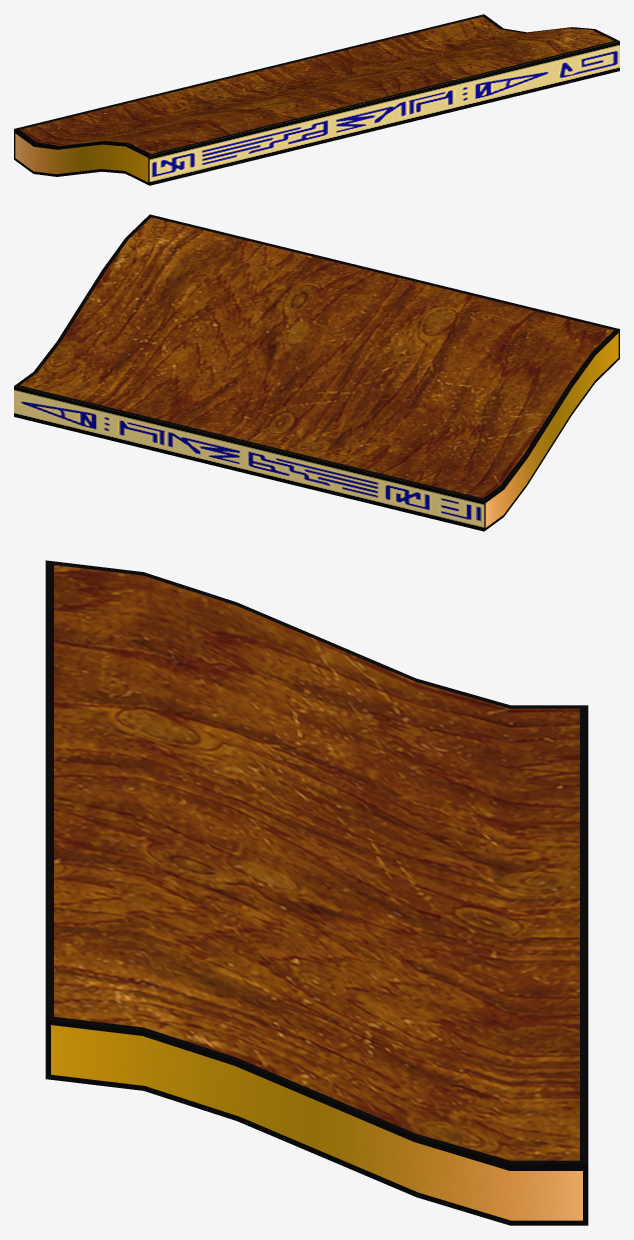
File: jungle_low_slope.gltf
3 renders of one model, top to bottom at view 1: azimuth 30°, elevation 25°; view 2: azimuth 150°, elevation 25°; view 3: azimuth 270°, elevation 25°, orthographic. The views are drawn at different scales.
Visible parts, largest first — view 1: jungle_low_slope_glb; view 2: jungle_low_slope_glb; view 3: jungle_low_slope_glb.
Boxes of the visible parts, <box> form: jungle_low_slope_glb: <box>14,14,619,185</box>; jungle_low_slope_glb: <box>14,214,619,531</box>; jungle_low_slope_glb: <box>45,560,588,1225</box>.
Size of what is drawn, in the model's own units: 4 by 0.8385 by 2.
Materials: 1 (1 with a texture image).
